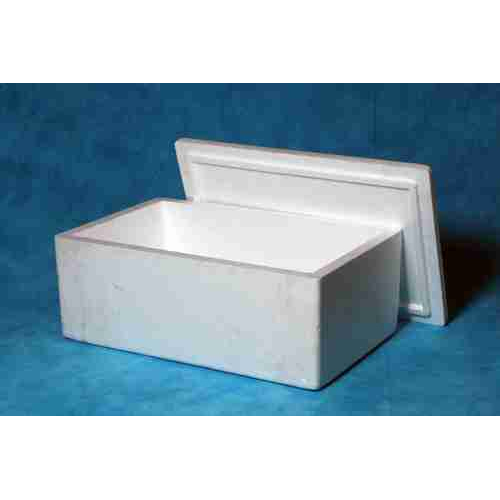Foam Box: (48, 129, 455, 394)
